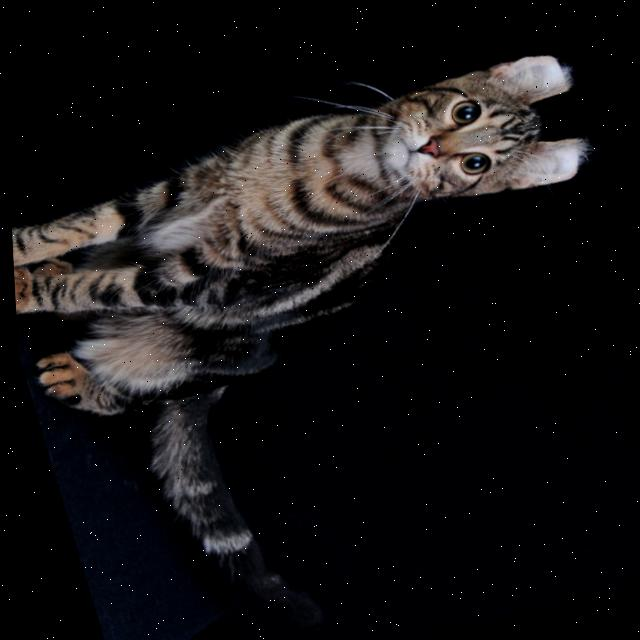American Curl: (2, 37, 640, 640)
